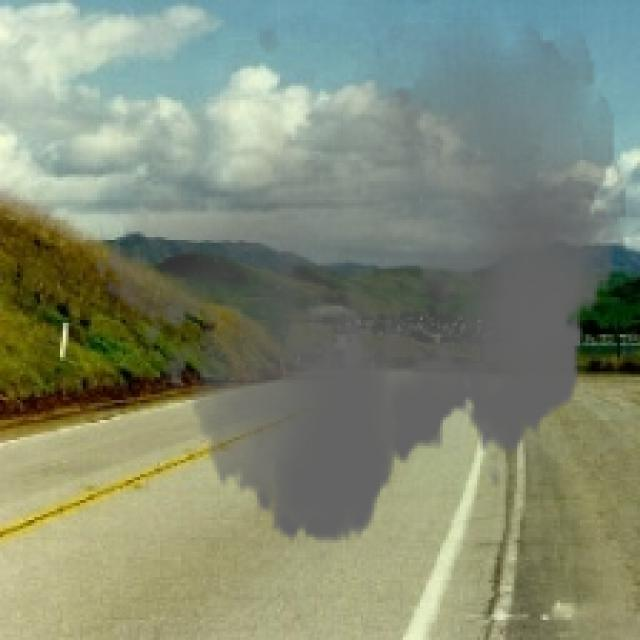smoke: (91, 0, 626, 563)
